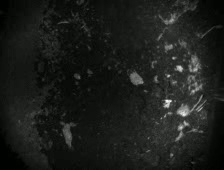corn: (72, 70, 83, 80)
